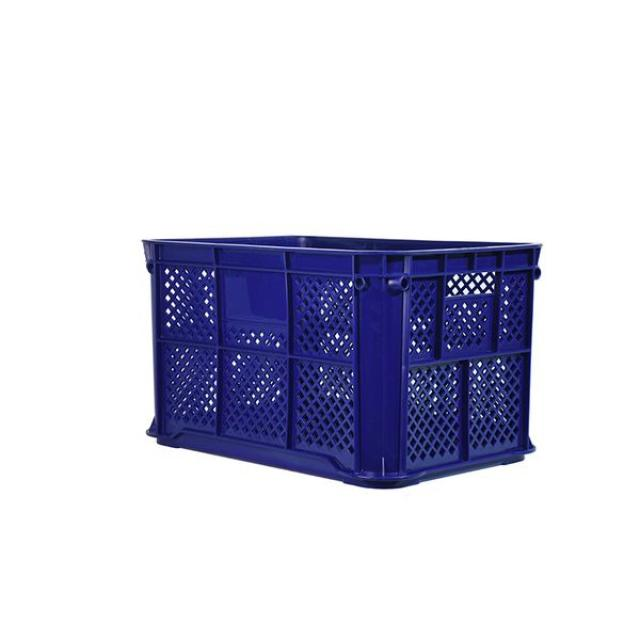basket: (137, 231, 542, 492)
